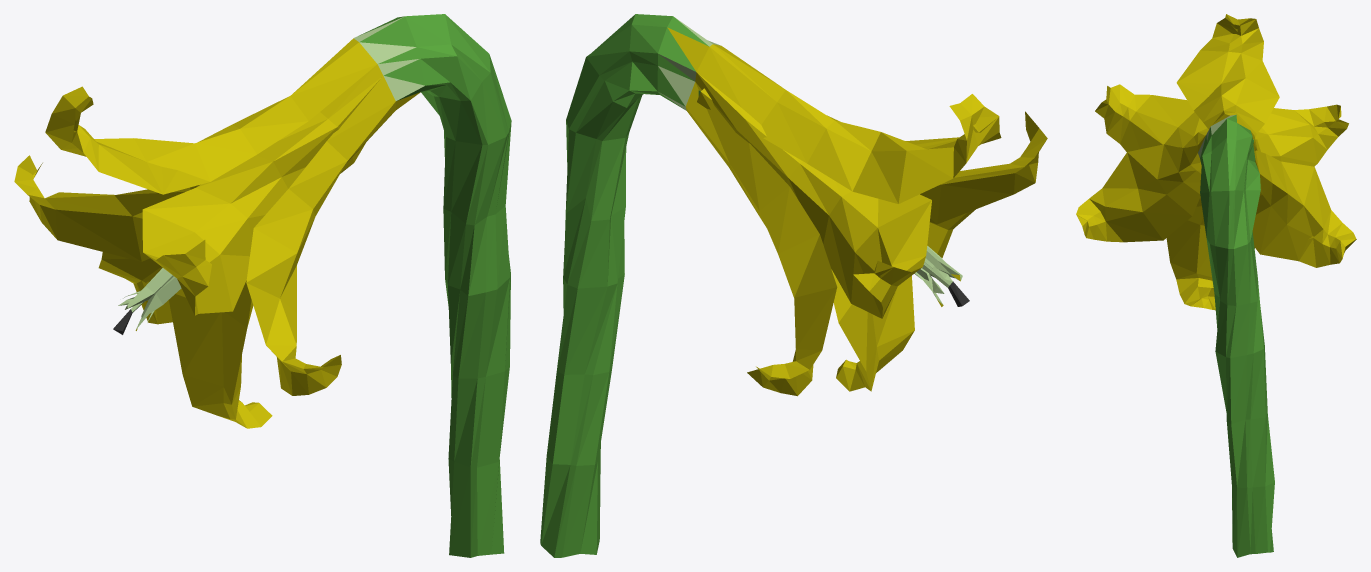
The model's file is ds-Lily-001.fbx.
3 renders of one model, left to right at view 1: azimuth 30°, elevation 25°; view 2: azimuth 150°, elevation 25°; view 3: azimuth 270°, elevation 25°, orthographic. The views are drawn at different scales.
Visible parts, largest first — view 1: ds_Lily_001; view 2: ds_Lily_001; view 3: ds_Lily_001.
Part boxes in pixels (x1=…): ds_Lily_001: x1=14, y1=14, x2=511, y2=557; ds_Lily_001: x1=540, y1=14, x2=1047, y2=557; ds_Lily_001: x1=1076, y1=14, x2=1356, y2=557.
Size of the model in its own units: 280 by 341 by 215.
